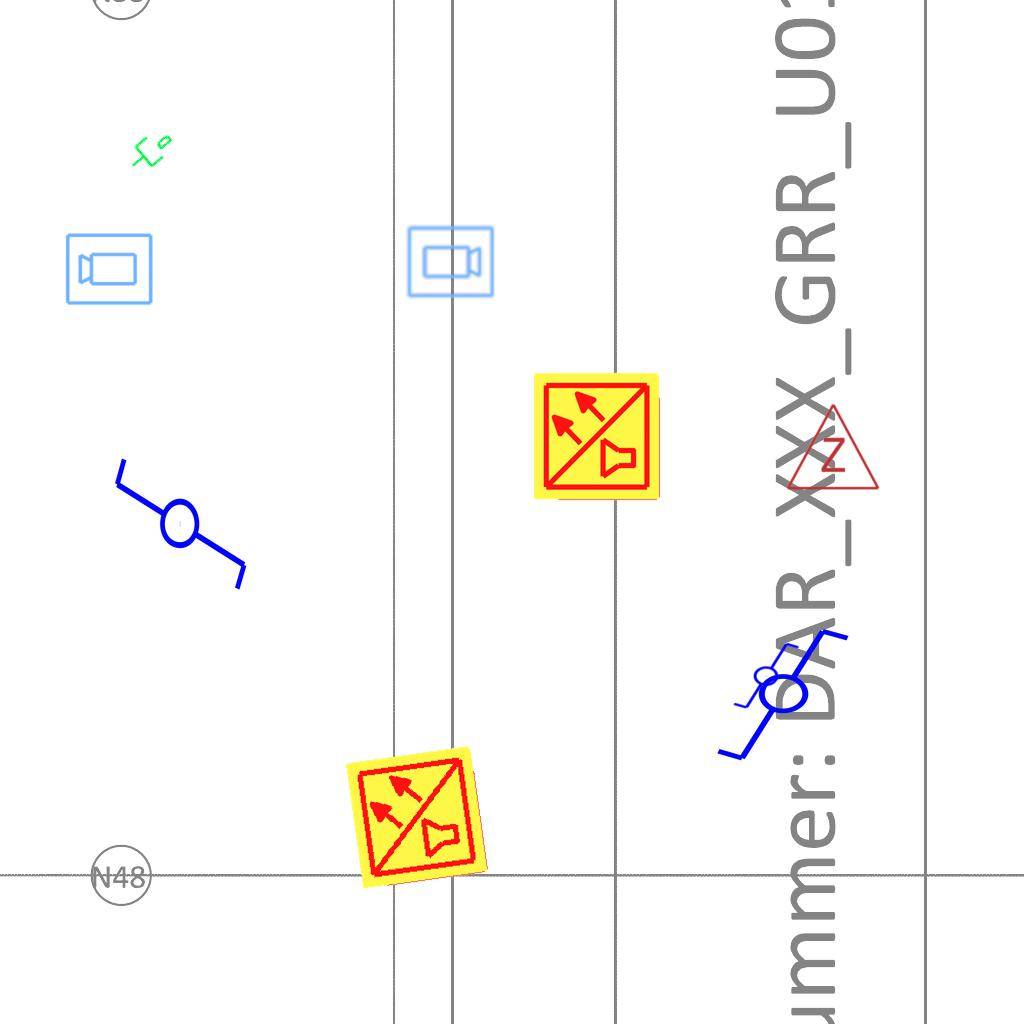Datenanschluss_einfach: (119, 120, 181, 180)
KFO_Kamera_mit_Festobjektiv: (405, 224, 496, 301), (64, 230, 155, 307)
OKW_Multisensormelder_(Kombination_optischer_Rauch-Kahlenmonoxid_Waerme-Melder): (342, 742, 492, 892), (531, 370, 663, 502)
Wechselschalter: (713, 624, 870, 768), (110, 437, 254, 594), (723, 639, 801, 711)
Zimmersignalleuchte: (783, 397, 881, 497)
